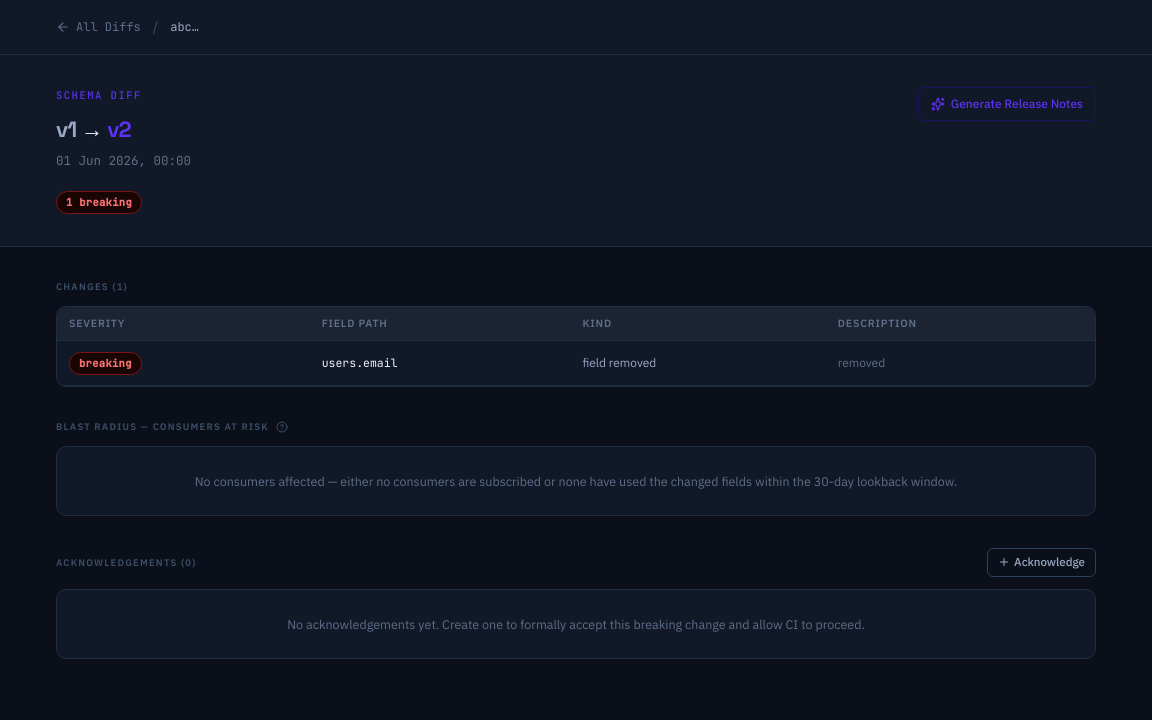
Test case: DiffDetailPage release-note generation › renders the generation error when the status comes back failed
Click the button "Generate Release Notes": {"x": 1007, "y": 104} 918,87 -> 1096,121
(page scrolled)
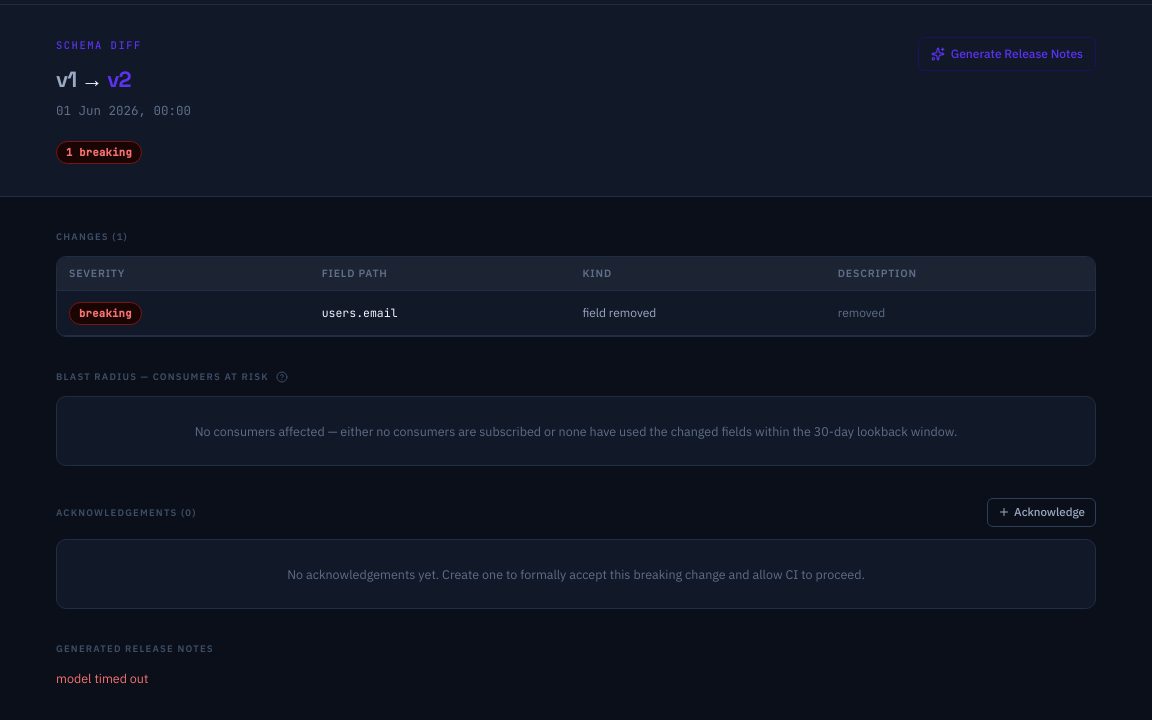
Check: the text "model timed out" is shown, box 56,670 -> 148,686
